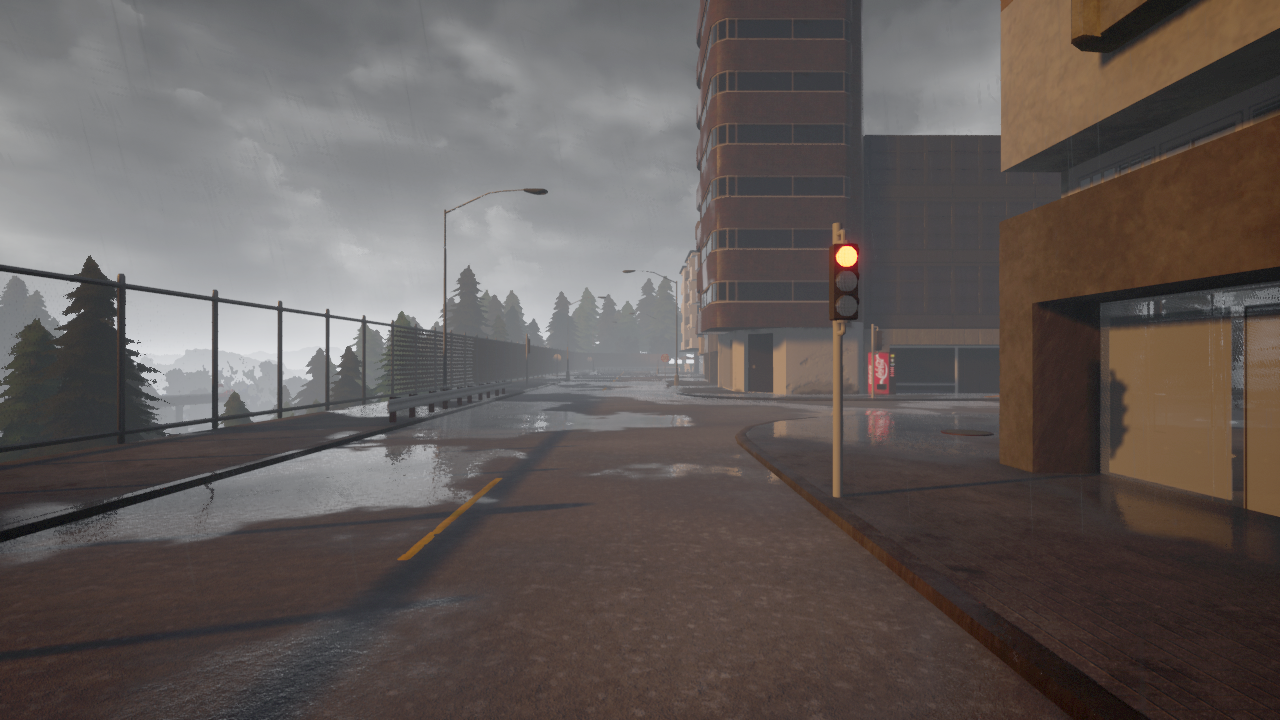red: (828, 242, 858, 322)
